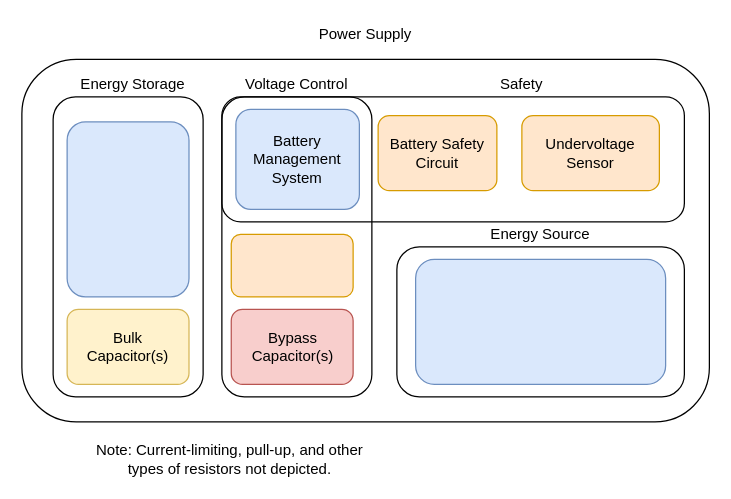
This 731x499 diagram has some shape labels left out. Each missing label, with the centre of its shape:
Battery: pixel 127 209
USB Header: pixel 540 321
Voltage Regulator: pixel 291 265
